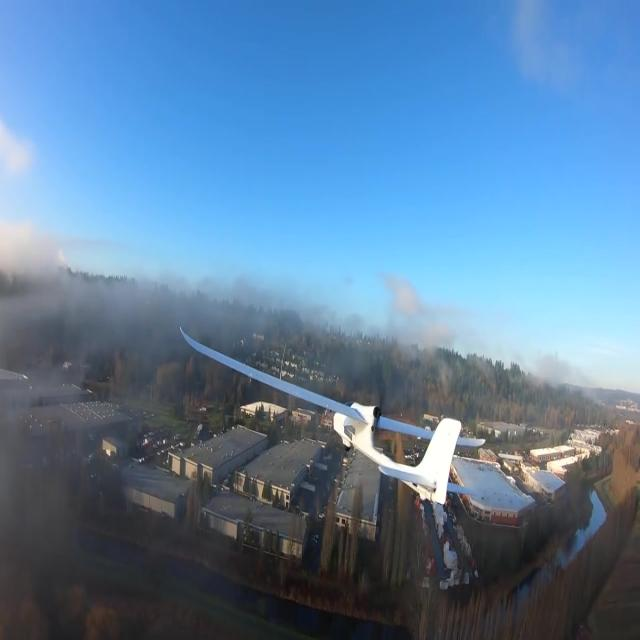iha: (178, 323, 487, 507)
